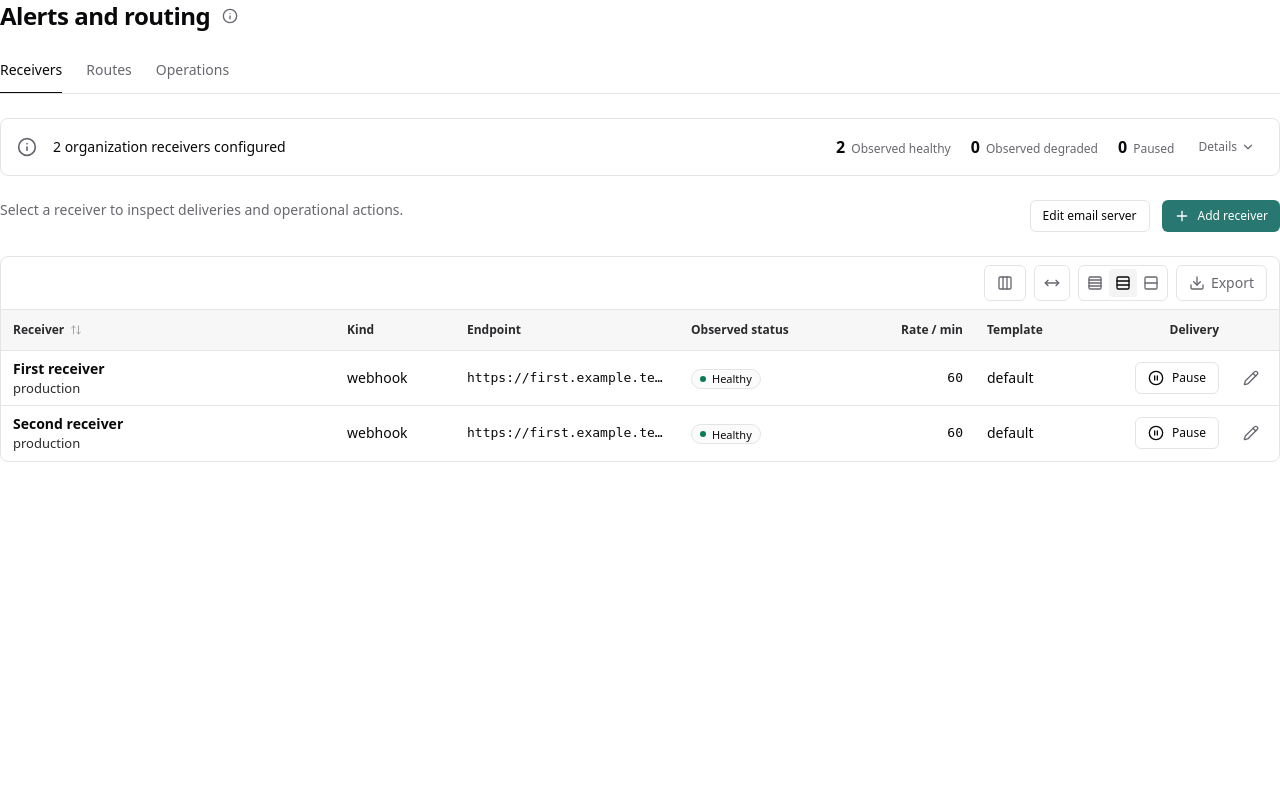
it: handles unavailable clipboard synchronously and never reports a failed copy as success
Click the row with test id "receiver-row-first".
click(640, 378)  # box [1,350,1279,406]
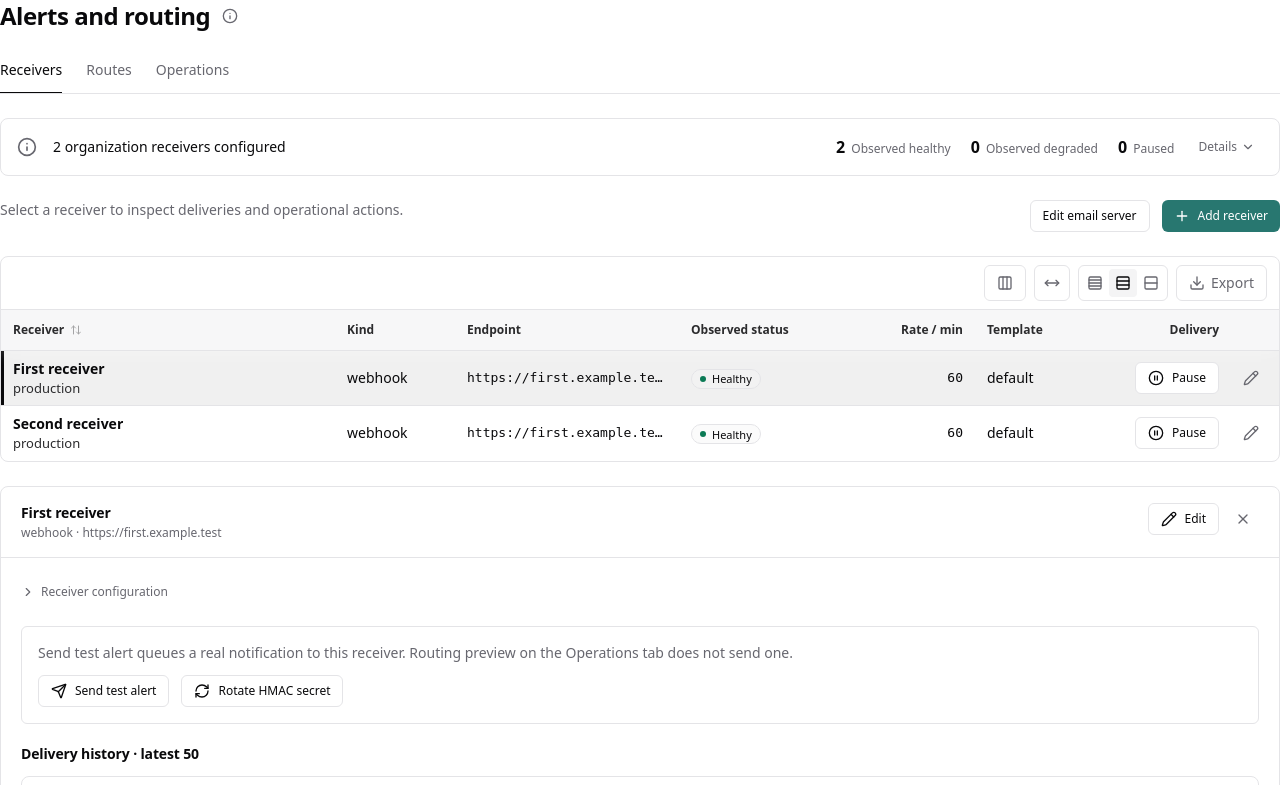
Click the button "Rotate HMAC secret".
click(262, 691)  # box [182,675,344,707]
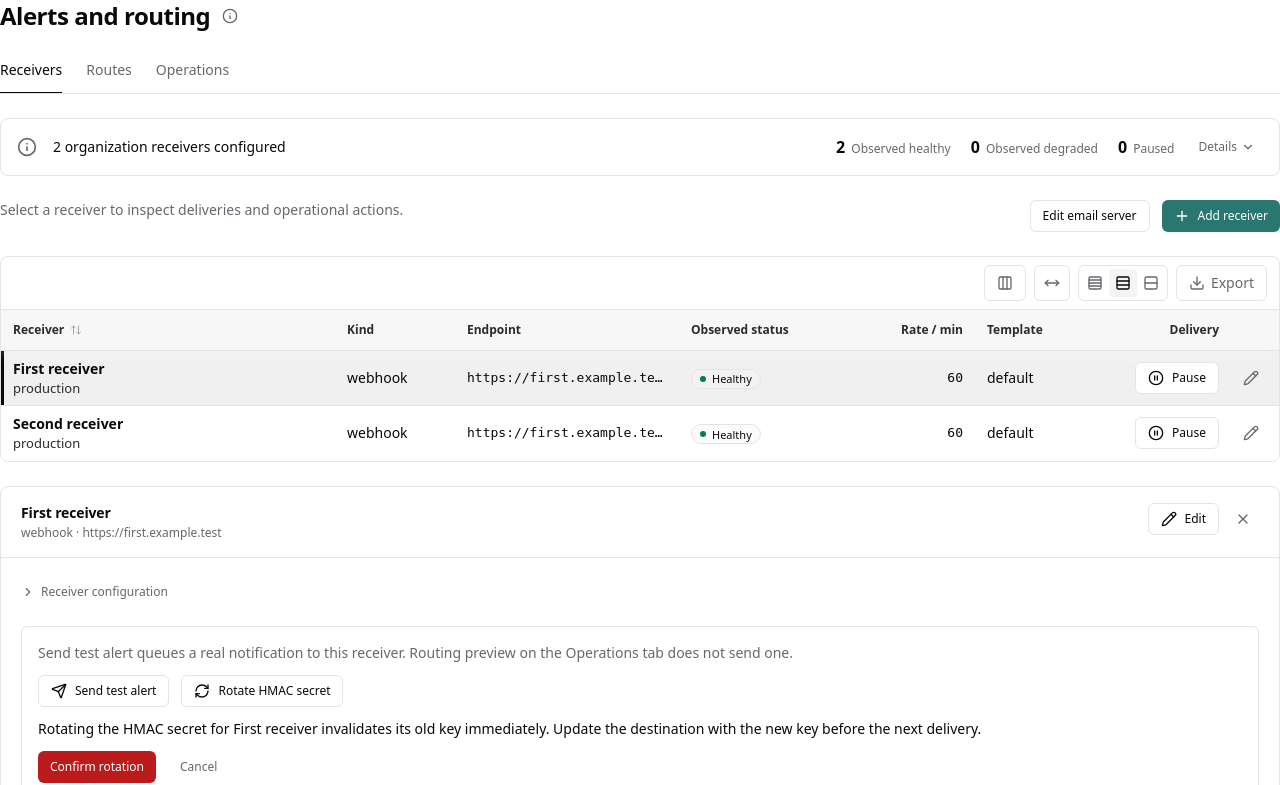
Click the button "Confirm rotation".
click(97, 767)  # box [38,751,156,783]
(page scrolled)
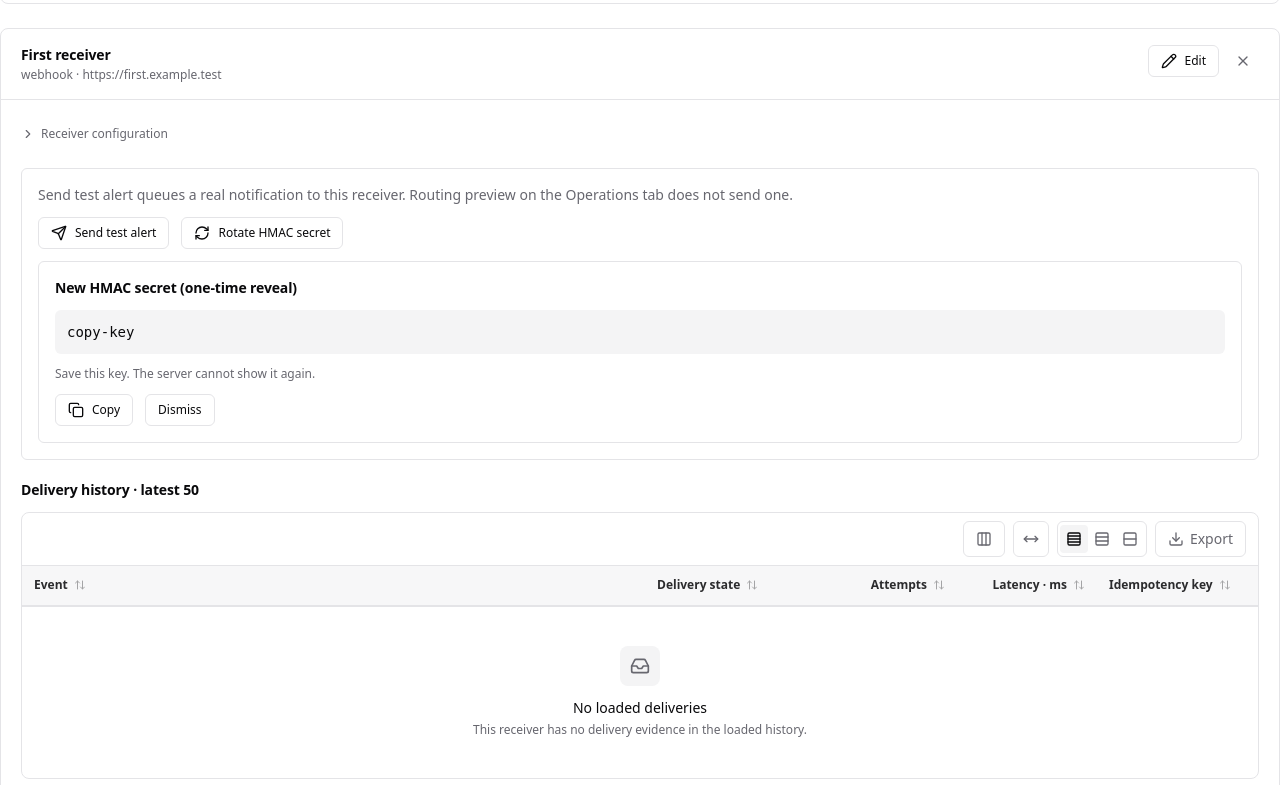
Expected: the text "copy-key" is shown, [55,310,1225,354]
Click the button "Copy".
click(94, 410)  # box [55,394,133,426]
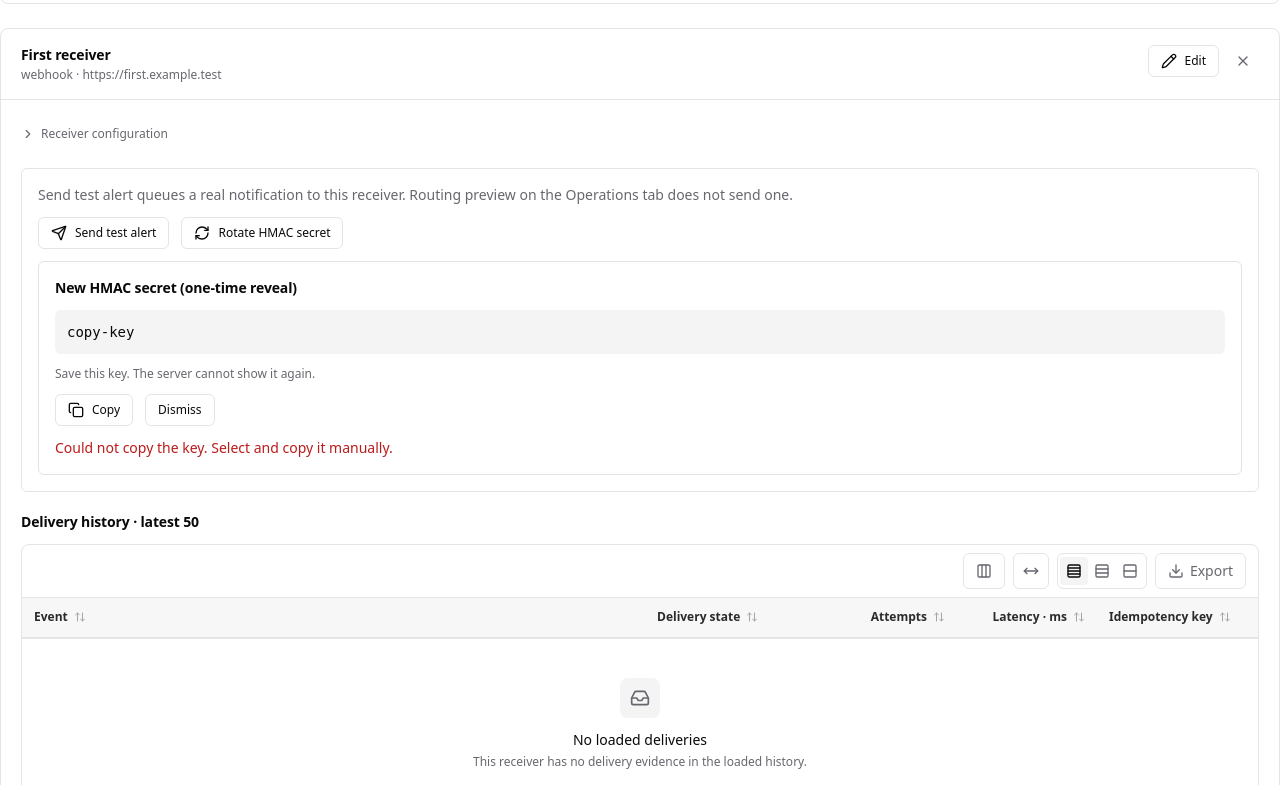
Expected: the text "Could not copy the key" is shown, [55,438,393,457]
